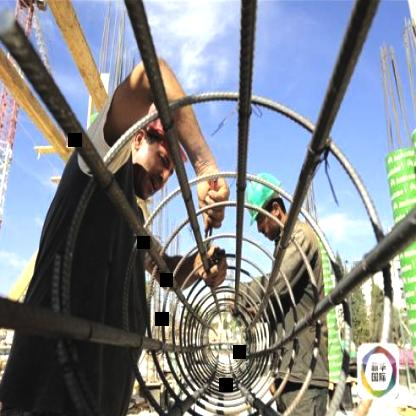helmet: (129, 100, 188, 197), (244, 170, 290, 238)
